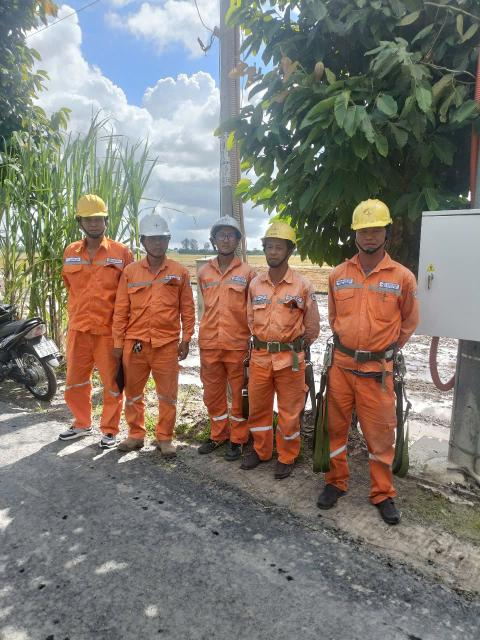harness: (330, 324, 418, 370), (254, 324, 325, 361)
helmet: (130, 199, 195, 246), (346, 194, 404, 243), (253, 220, 312, 249), (77, 191, 116, 228), (213, 211, 245, 239)
shoes: (365, 490, 412, 531), (51, 416, 98, 445), (311, 481, 349, 516), (150, 431, 193, 461), (238, 436, 267, 479), (268, 451, 298, 488), (188, 432, 234, 456), (215, 431, 244, 468), (114, 430, 148, 452), (92, 420, 115, 448)
